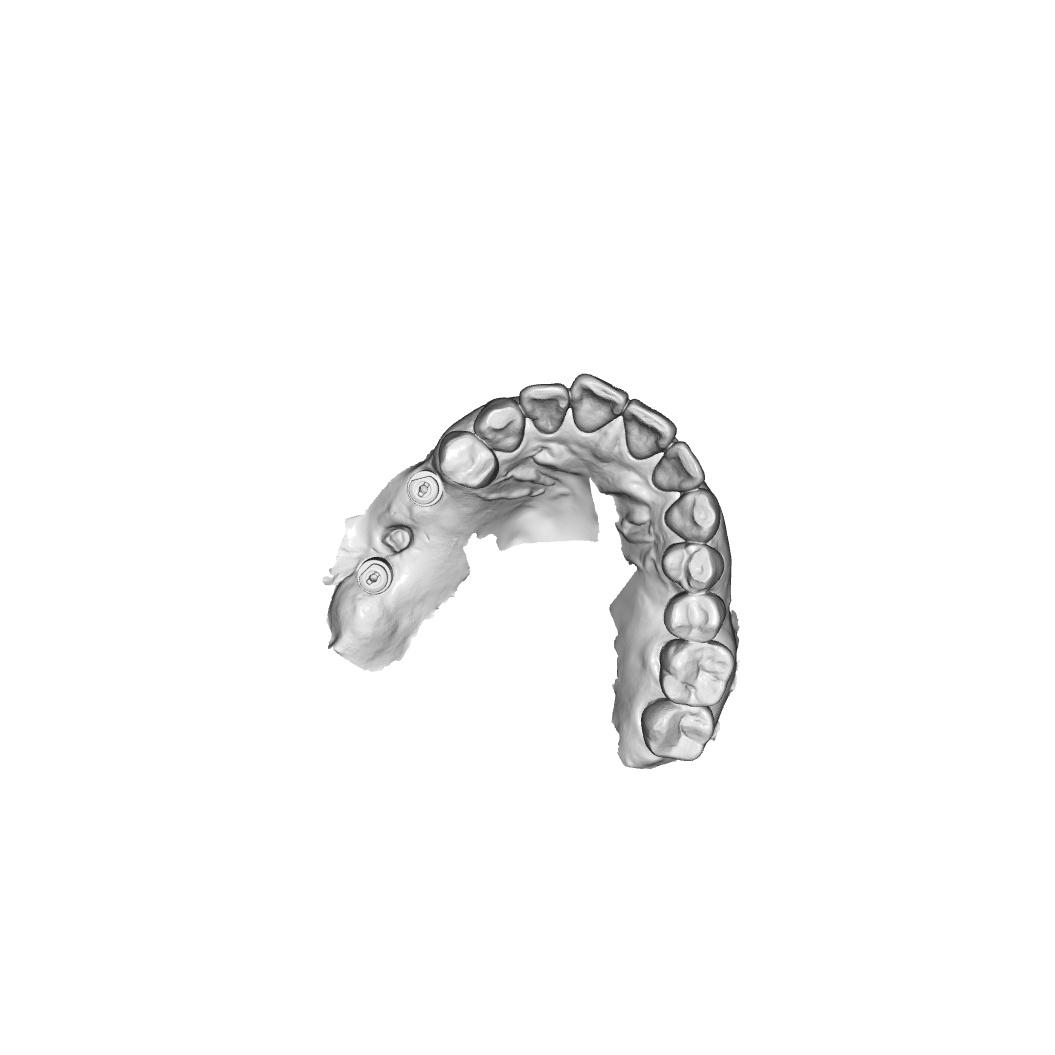canine: (471, 393, 526, 456), (663, 487, 721, 544)
implant_minus: (354, 558, 393, 595), (407, 470, 447, 504)
incisor: (568, 370, 634, 436), (619, 396, 679, 461), (517, 373, 571, 438), (654, 438, 709, 491)
molar: (658, 639, 740, 706), (638, 698, 716, 761)
premolar: (435, 427, 496, 492), (660, 537, 726, 591), (661, 593, 734, 640)
